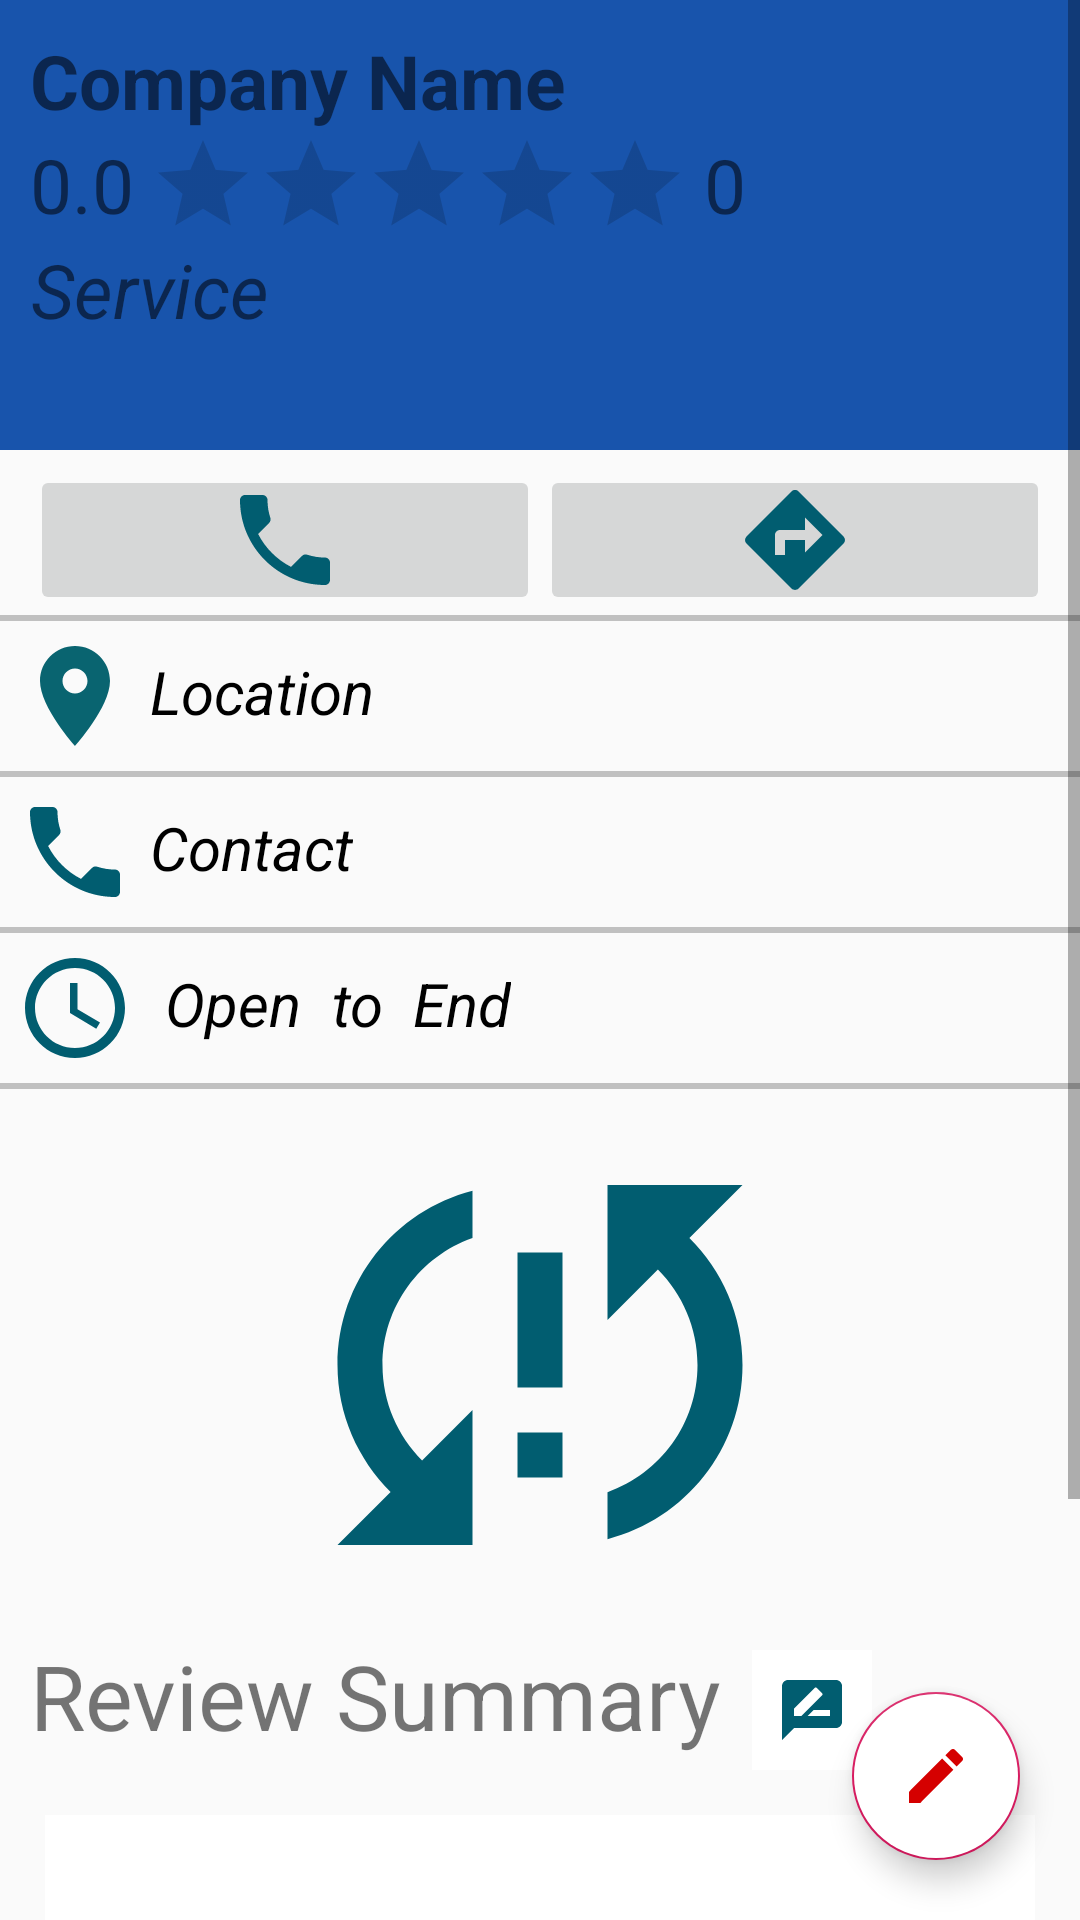

Icons on this 1080px x 1920px Android screen, each with its box as (x1, y1, x2, y2):
access time: (25, 958, 125, 1058)
edit: (852, 1692, 1020, 1860)
rate review: (782, 1680, 842, 1740)
